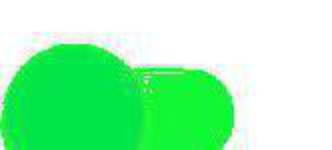Switch: (1, 1, 331, 149)
